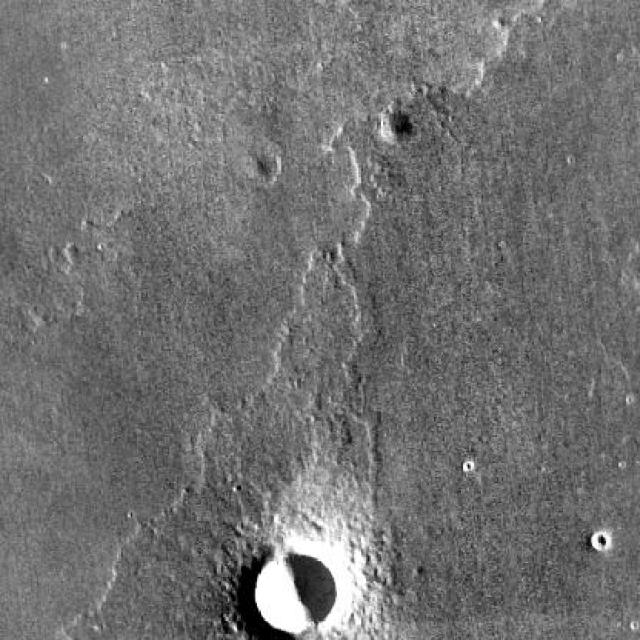crater: (255, 557, 334, 634), (375, 109, 407, 142)
